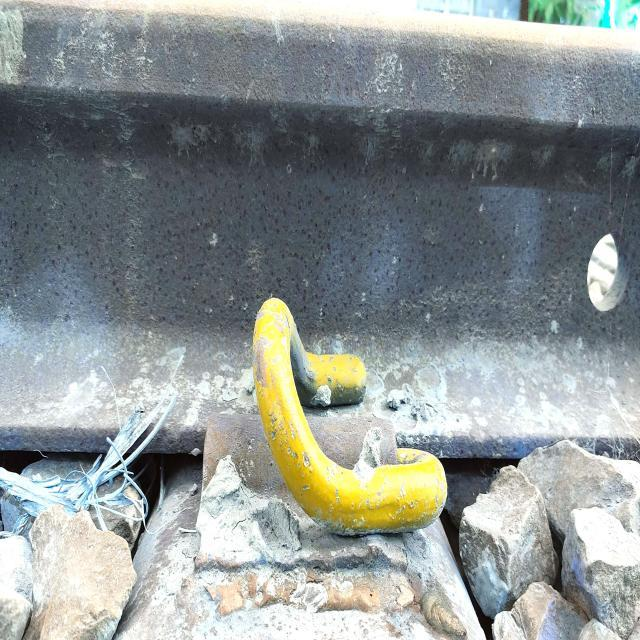Good Fasteners: (173, 265, 452, 608)
